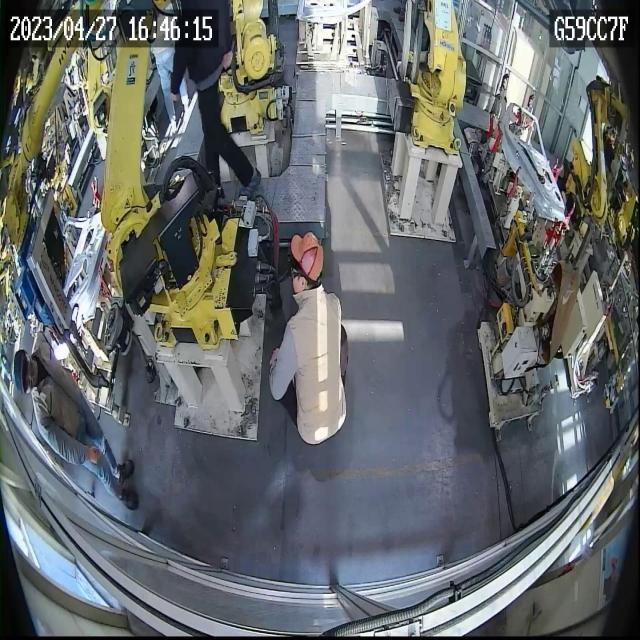Person: (12, 346, 134, 503), (169, 2, 262, 198), (268, 231, 348, 446)
